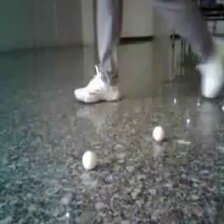w: (82, 150, 98, 169), (152, 126, 166, 141)
